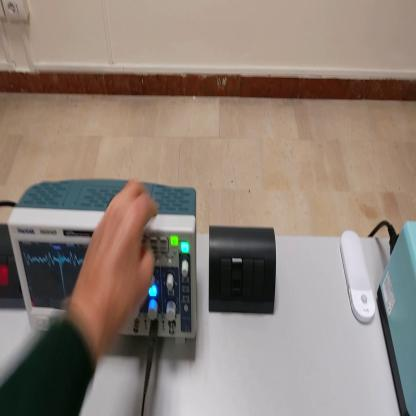hand: (72, 182, 159, 340)
oscilloscope: (6, 176, 198, 343)
socket: (2, 225, 28, 311)
welder station: (376, 220, 416, 412)
